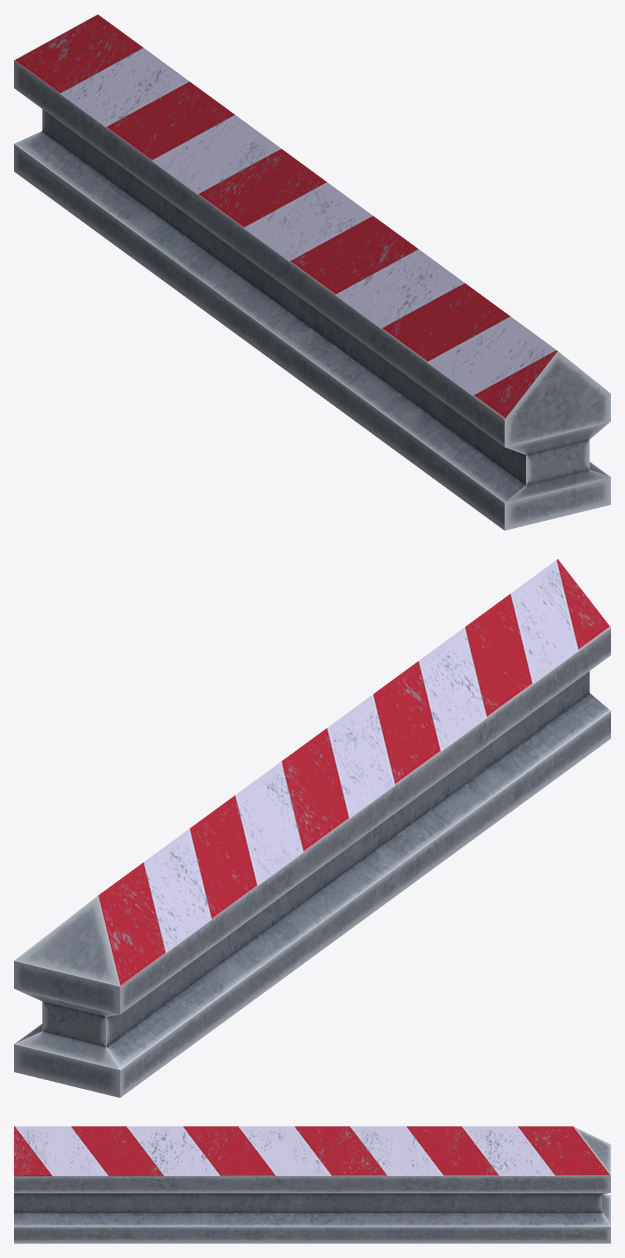
File: WackerArm_A.fbx
The picture shows the model from 3 angles, top to bottom: view 1: azimuth 30°, elevation 25°; view 2: azimuth 150°, elevation 25°; view 3: azimuth 270°, elevation 25°; orthographic projection. The views are drawn at different scales.
Parts seen in each view (by area): view 1: WackerSet01; view 2: WackerSet01; view 3: WackerSet01.
Part boxes in pixels (left/top/right/bottom): WackerSet01: left=14, top=14, right=610, bottom=530; WackerSet01: left=14, top=559, right=610, bottom=1097; WackerSet01: left=14, top=1126, right=610, bottom=1243.
Size of the model in its own units: 100 by 150 by 800.
